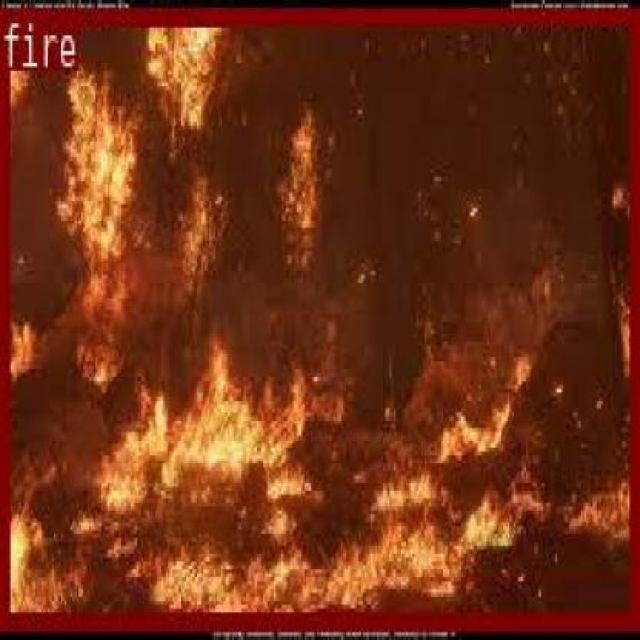fire: (0, 3, 635, 623)
